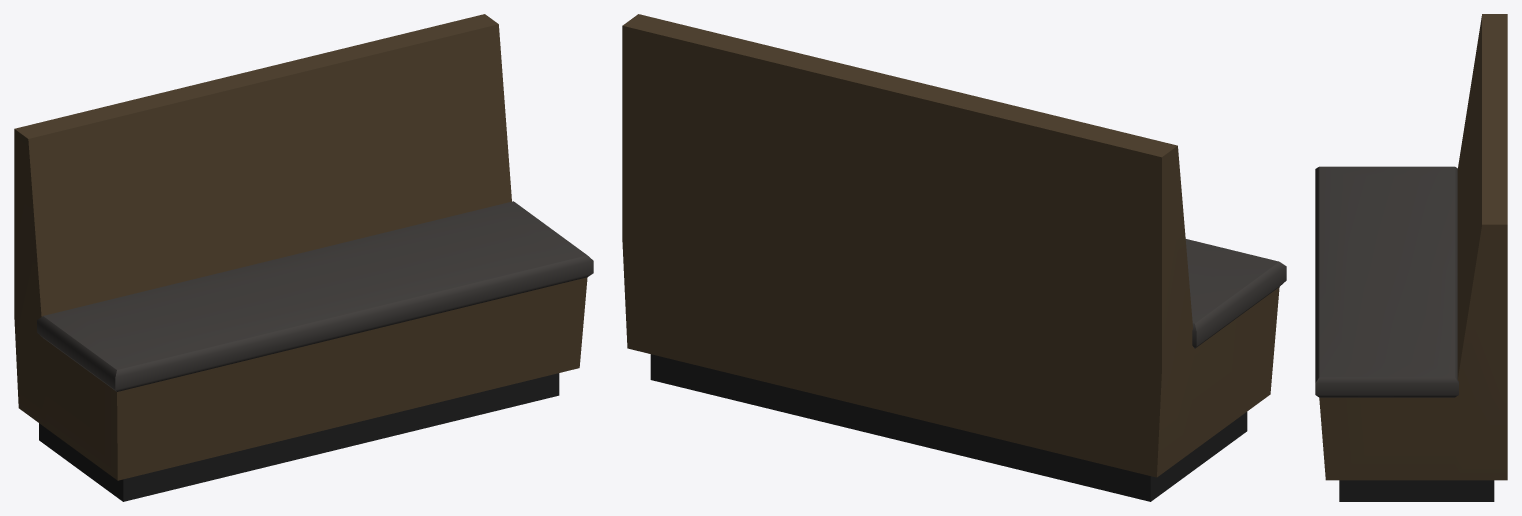
File: PS_BoothBench.fbx
3 views of the same model, side by side, from view 1: azimuth 30°, elevation 25°; view 2: azimuth 150°, elevation 25°; view 3: azimuth 270°, elevation 25° (orthographic). The views are drawn at different scales.
Parts seen in each view (by area): view 1: PS_BoothBench; view 2: PS_BoothBench; view 3: PS_BoothBench.
Boxes of the visible parts, <box> form: PS_BoothBench: <box>14,14,593,501</box>; PS_BoothBench: <box>622,14,1286,501</box>; PS_BoothBench: <box>1315,14,1507,501</box>.
Size of the model in its own units: 1.87 by 1.16 by 0.7096.
